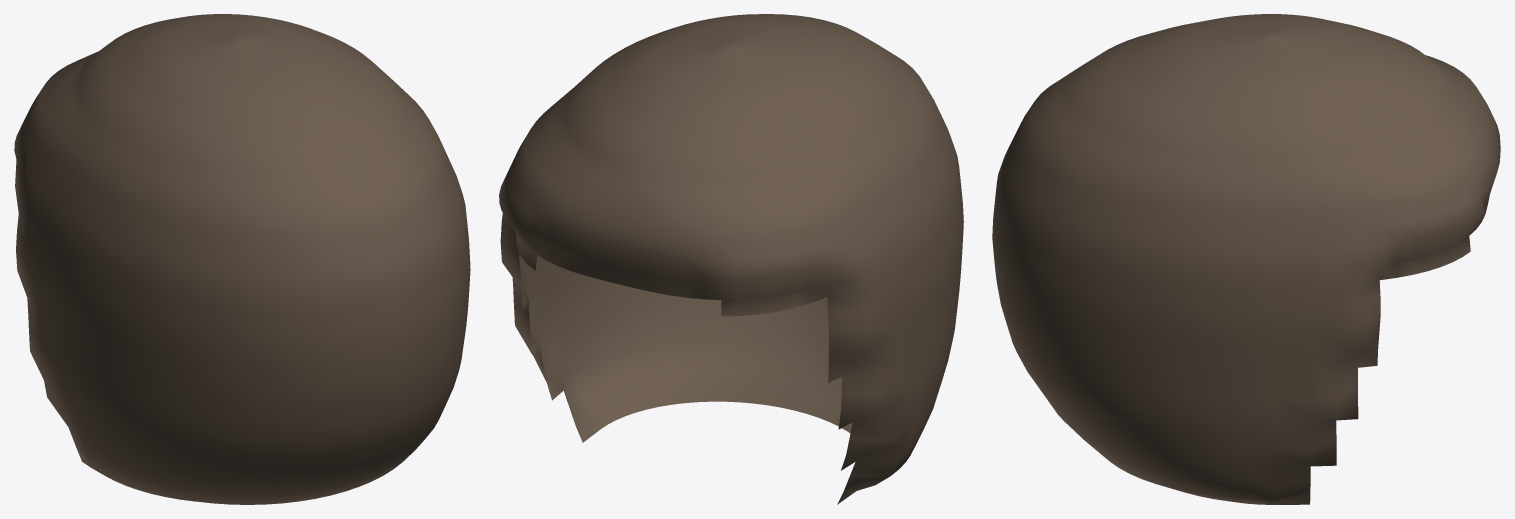
The model's file is gente.pelo_corto.fbx.
3 renders of one model, left to right at view 1: azimuth 30°, elevation 25°; view 2: azimuth 150°, elevation 25°; view 3: azimuth 270°, elevation 25°, orthographic.
Visible parts, largest first — view 1: Pelo corto; view 2: Pelo corto; view 3: Pelo corto.
Boxes of the visible parts, x1,y1,x2,y2 form: Pelo corto: (14, 14, 470, 504); Pelo corto: (499, 14, 963, 504); Pelo corto: (992, 14, 1500, 504).
Size of the model in its own units: 0.2056 by 0.2176 by 0.2453.
